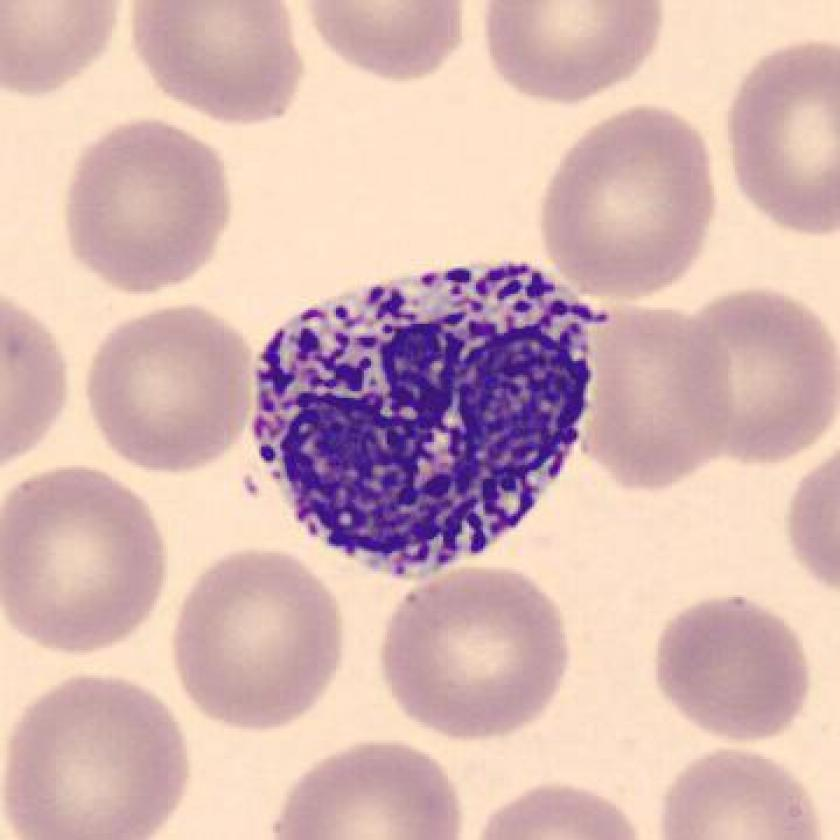basophil: (241, 249, 608, 577)
